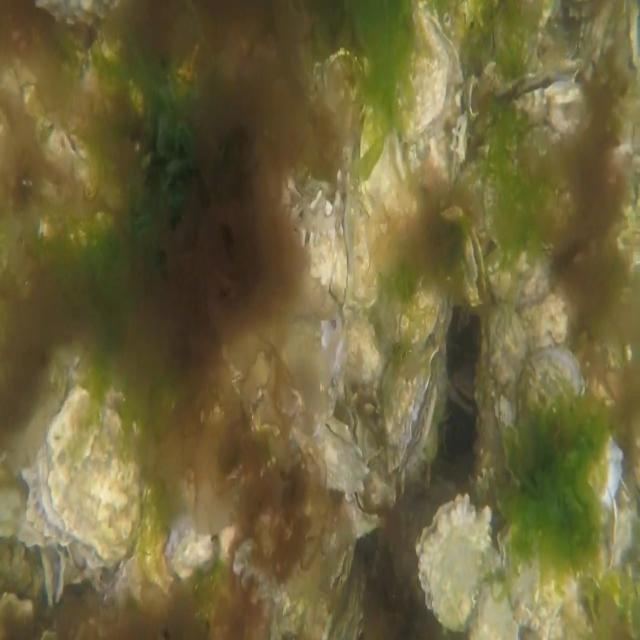Oyster-Closed: (497, 511, 580, 634), (384, 347, 441, 474), (295, 419, 371, 501), (340, 487, 386, 540), (334, 173, 352, 303)
Oyster-Indeterminate: (36, 388, 138, 569), (518, 346, 624, 508), (416, 492, 494, 631), (359, 100, 411, 270), (395, 0, 451, 143), (483, 301, 528, 475), (484, 242, 556, 312), (341, 308, 383, 422), (348, 182, 378, 313), (406, 284, 452, 366), (165, 516, 214, 580)
Oyster-Open: (494, 69, 593, 156), (300, 190, 337, 289), (463, 228, 489, 308)
